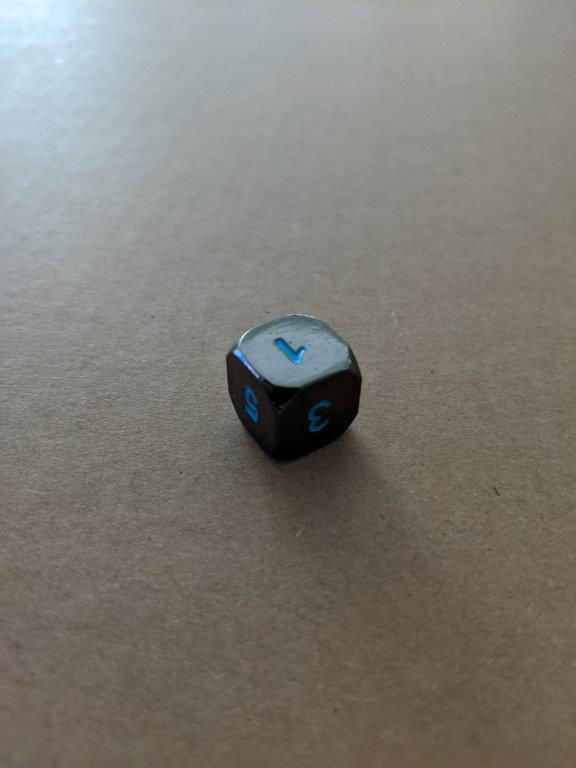d6-1: (226, 314, 362, 465)
